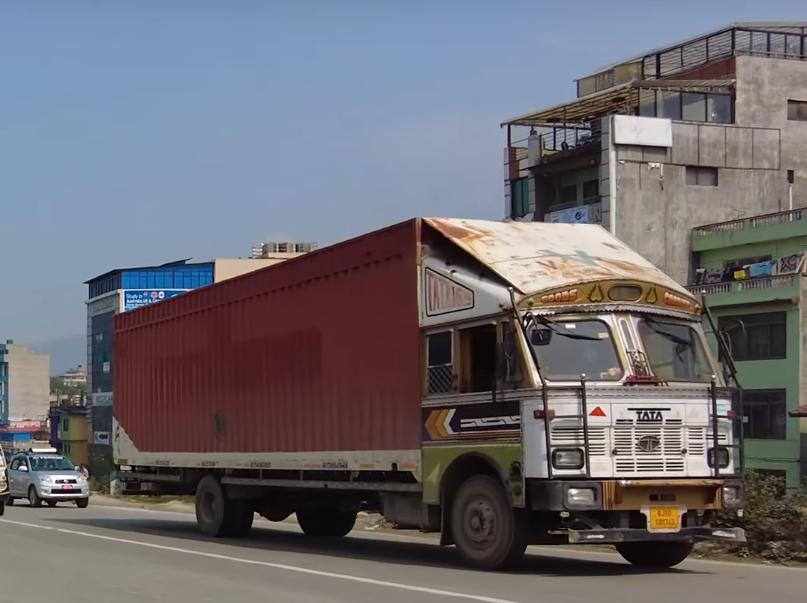car: (5, 449, 90, 507)
truck: (109, 215, 748, 570)
